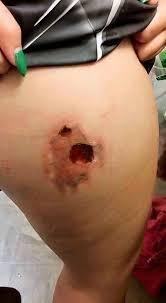Spider: (28, 112, 113, 196)
